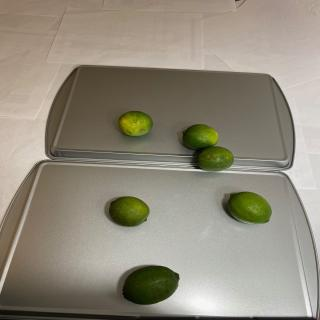Apple: (108, 196, 150, 227)
Chilli: (122, 265, 180, 305)
Lemon: (227, 191, 272, 225), (196, 146, 234, 172), (182, 124, 218, 150), (118, 110, 153, 136)
